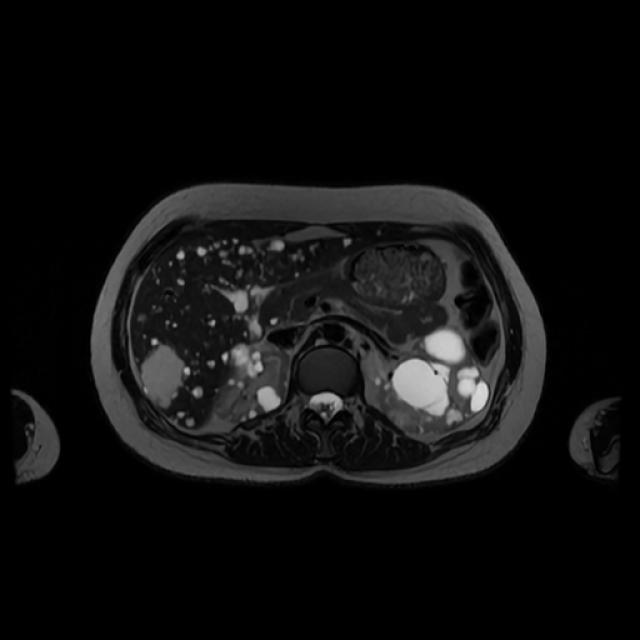sag: (214, 343, 290, 425)
sol: (376, 328, 492, 438)
